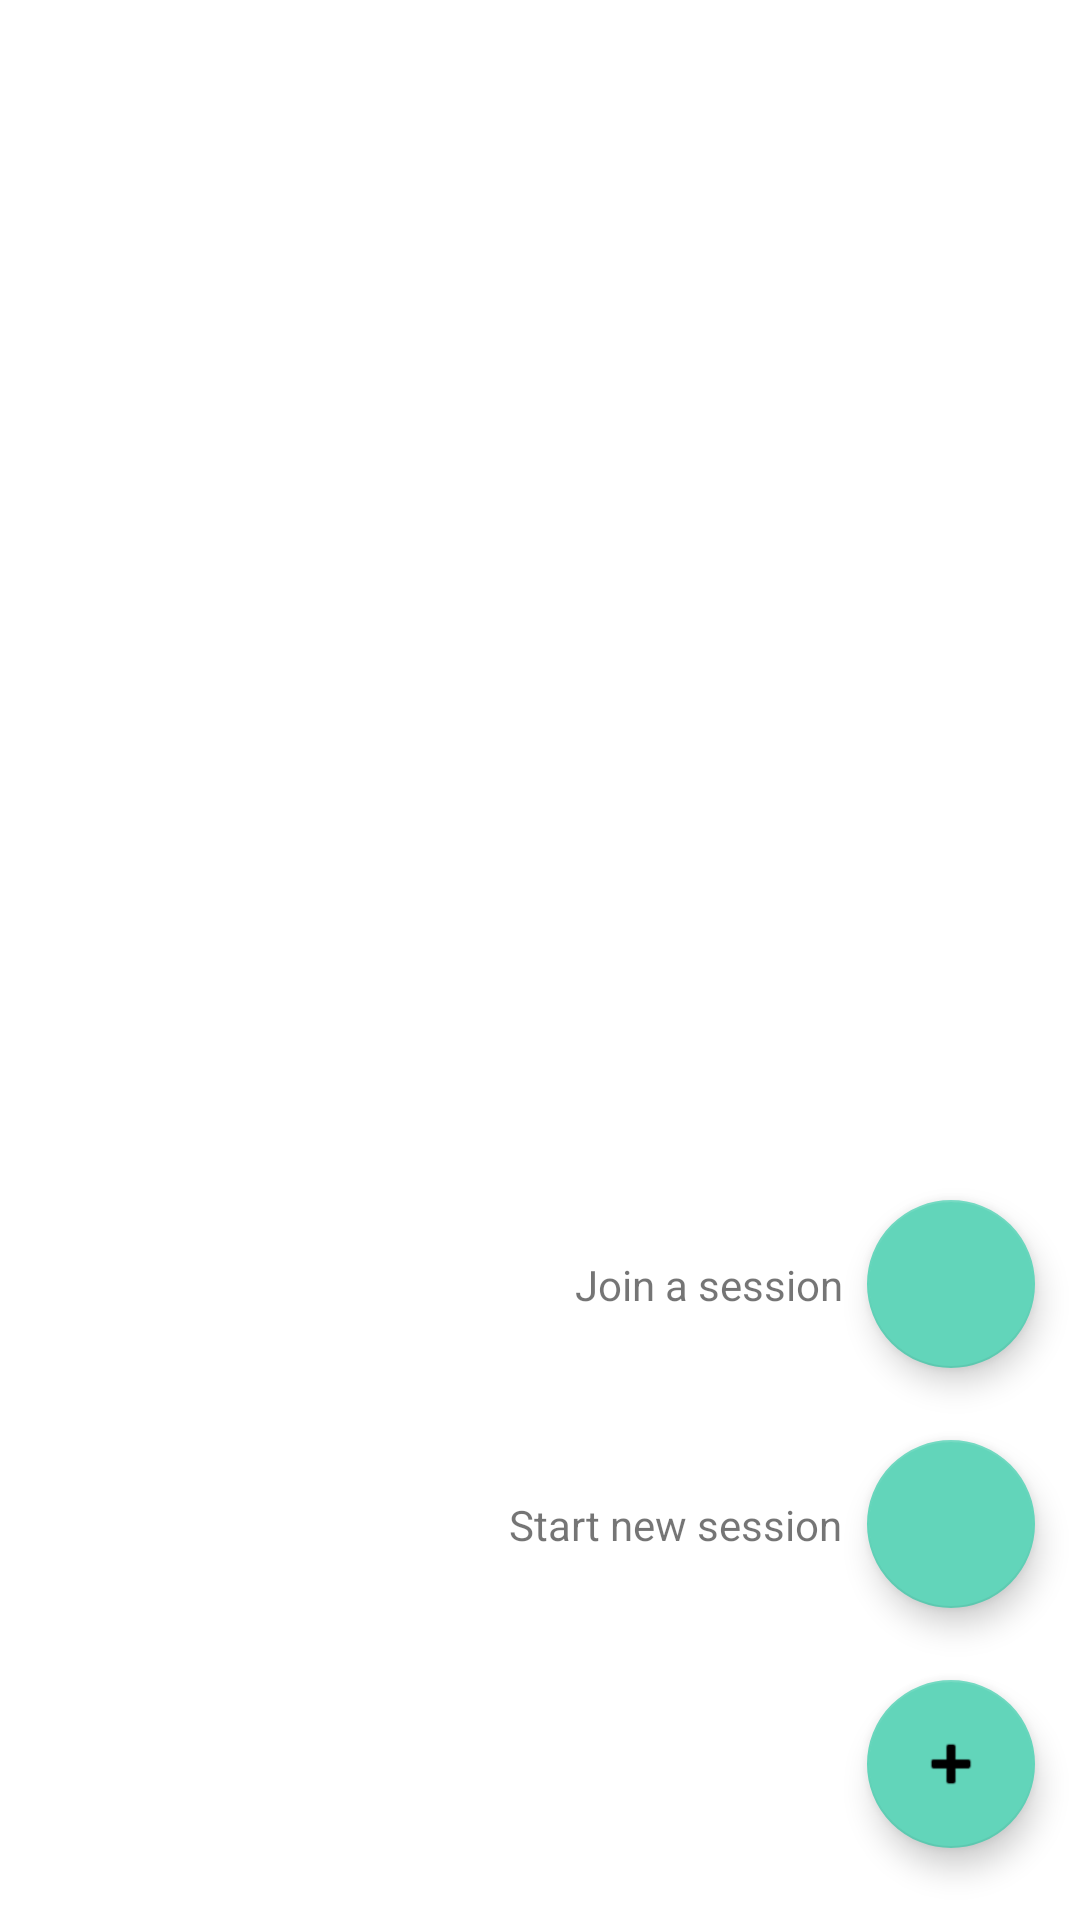

Named icons in this screenshot (1080 × 1920) and their bounding boxes, bbox=[x1, y1, x2, y2]:
add: bbox=[867, 1680, 1035, 1848]
